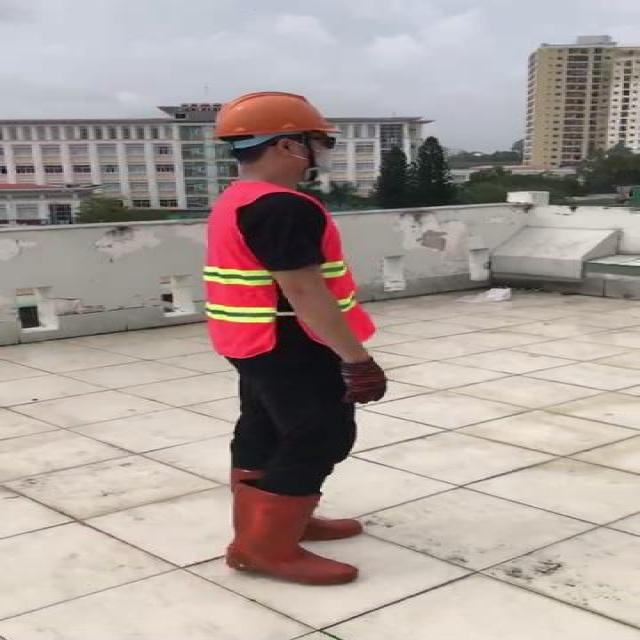boots: (226, 481, 361, 586)
hand_glove: (340, 361, 390, 406)
head_helmet: (202, 86, 344, 142)
person: (162, 72, 436, 604)
vest: (204, 182, 377, 357)
